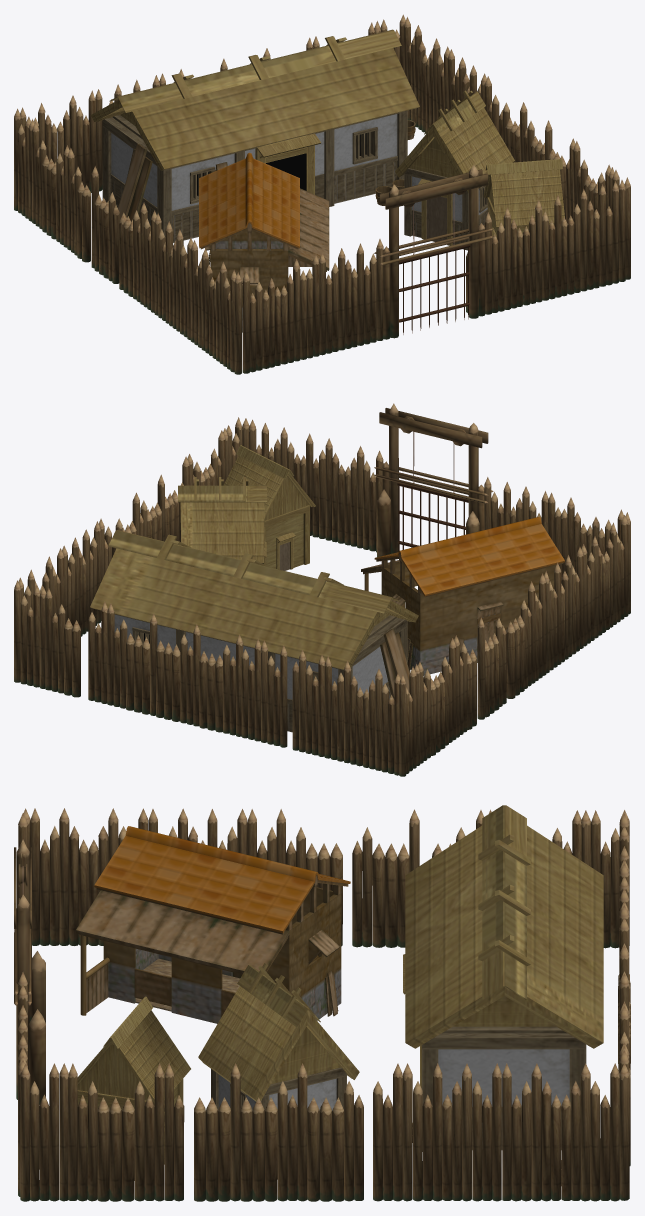
File: sb_obj_outdoor010_Landmark_Village.fbx
3 renders of one model, top to bottom at view 1: azimuth 30°, elevation 25°; view 2: azimuth 150°, elevation 25°; view 3: azimuth 270°, elevation 25°, orthographic. The views are drawn at different scales.
Parts seen in each view (by area): view 1: sb_obj_outdoor010_Landmark01_Village; view 2: sb_obj_outdoor010_Landmark01_Village; view 3: sb_obj_outdoor010_Landmark01_Village.
Part boxes in pixels (left/top/right/bottom): sb_obj_outdoor010_Landmark01_Village: left=14, top=14, right=630, bottom=374; sb_obj_outdoor010_Landmark01_Village: left=14, top=403, right=630, bottom=776; sb_obj_outdoor010_Landmark01_Village: left=14, top=805, right=630, bottom=1201.
Bounding box in the file's own units: 2 × 0.7409 × 2.
